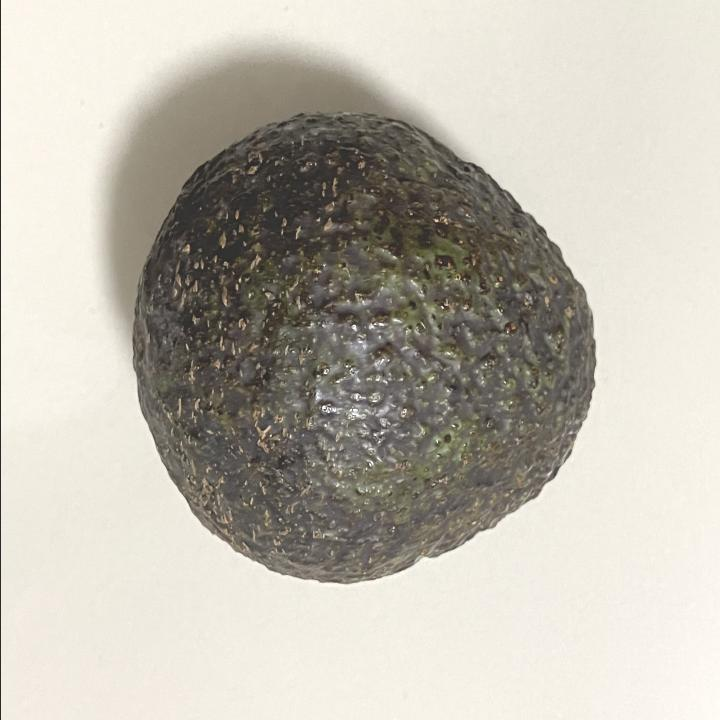Level2: (122, 100, 608, 598)
